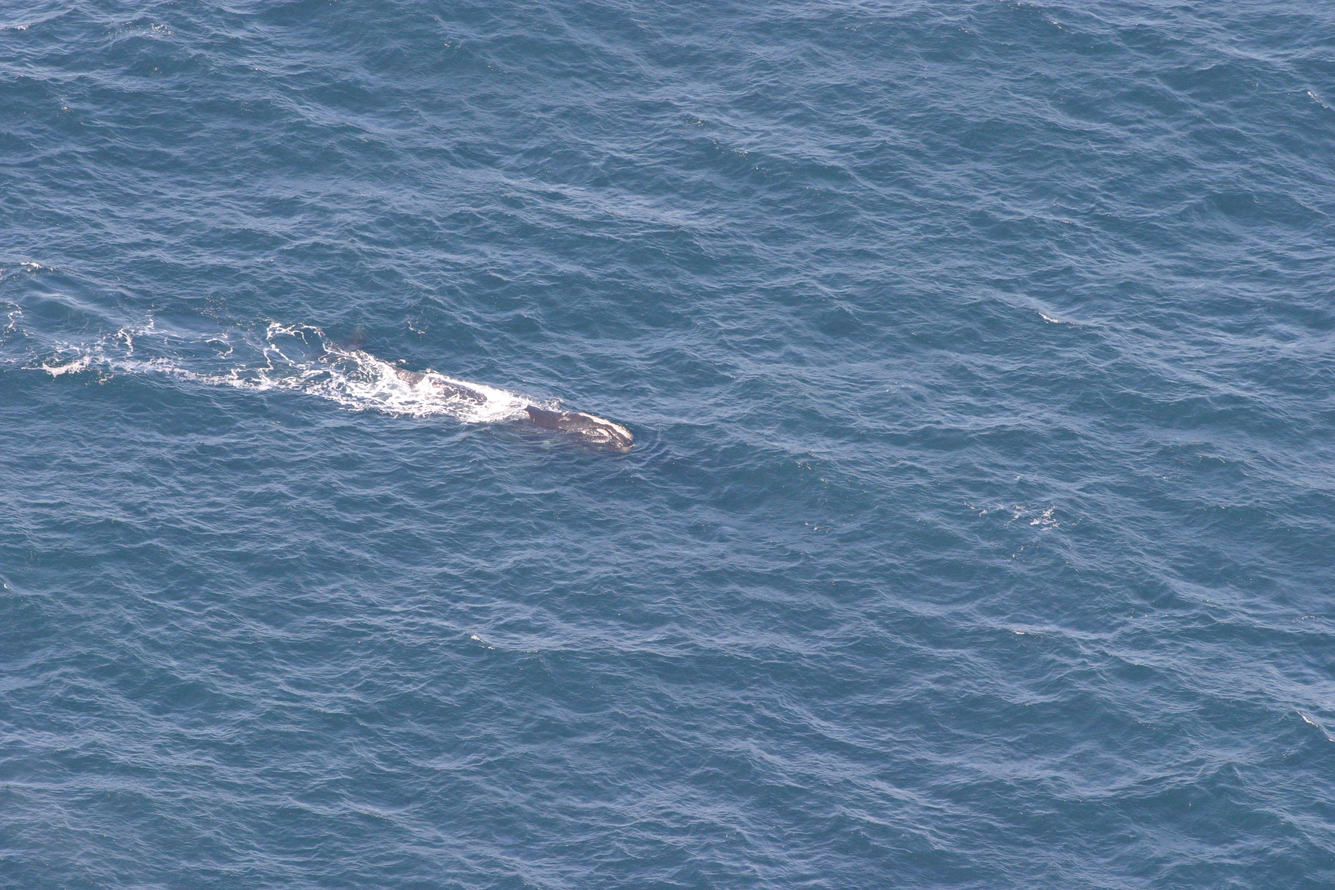whale: (266, 291, 639, 459)
